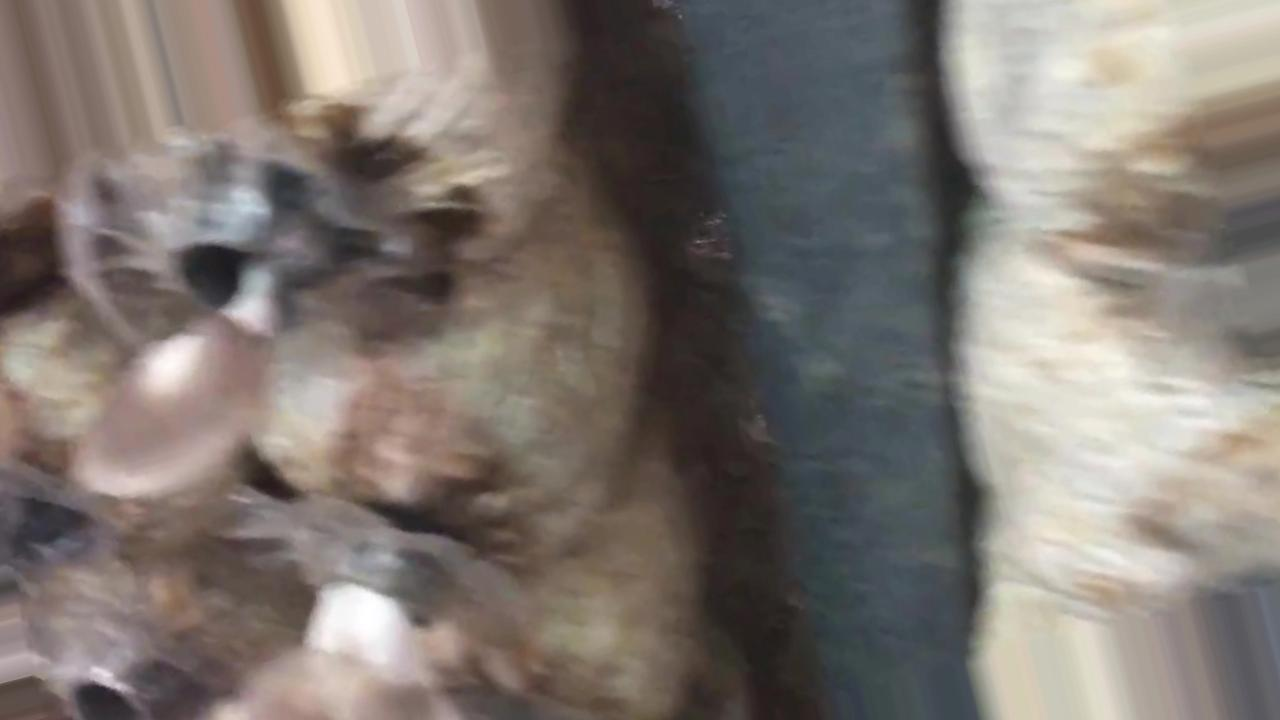nam: (68, 182, 335, 503), (256, 556, 449, 720)
